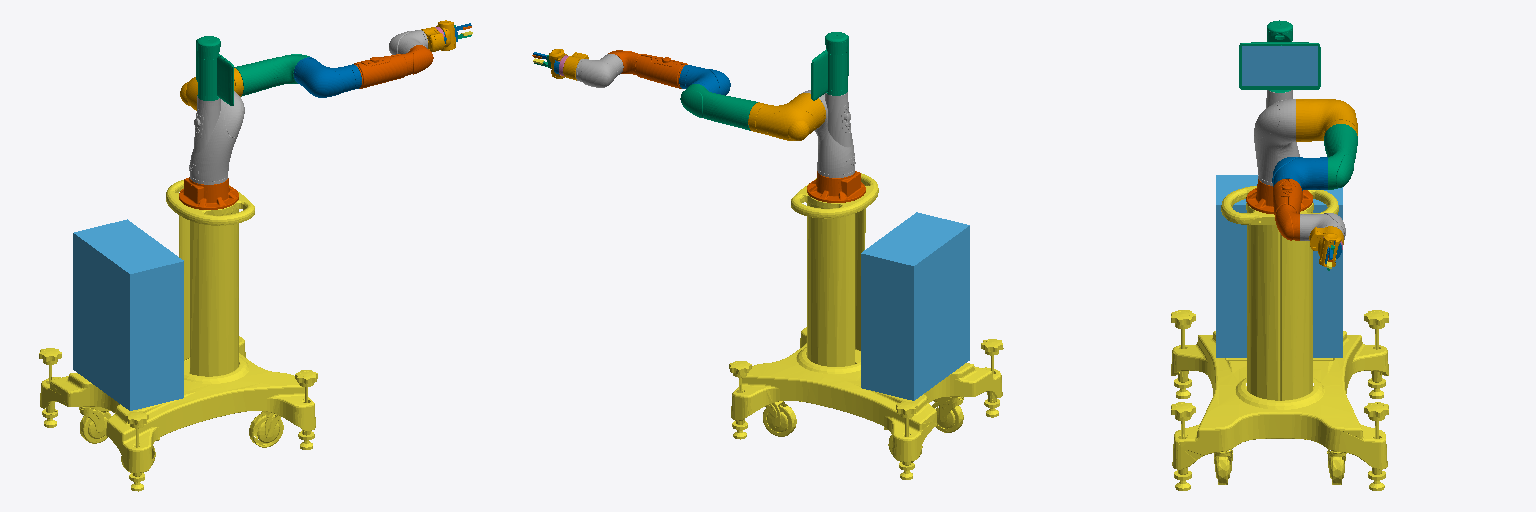
URDF robot description (sawyer_v2):
<?xml version="1.0" encoding="UTF-8"?>
<robot name="sawyer_v2">
  <joint name="controller_box_fixed" type="fixed">
    <origin xyz="0. 0. 0." rpy="0. 0. 0."/>
    <parent link="base"/>
    <child link="controller_box"/>
  </joint>
  <joint name="display_joint" type="fixed">
    <origin xyz="0.03 0. 0.1050001" rpy="1.5707963 0. 1.5707964"/>
    <parent link="head"/>
    <child link="screen"/>
  </joint>
  <joint name="head_head_camera" type="fixed">
    <origin xyz="0.0228027 0. 0.2165721" rpy="-1.5707963 -0.5585038 3.1415925"/>
    <parent link="head"/>
    <child link="sawyer_head_camera"/>
  </joint>
  <joint name="head_pan" type="revolute">
    <origin xyz="0. 0. 0.2965" rpy="0. 0. 0."/>
    <parent link="right_l0"/>
    <child link="head"/>
    <axis xyz="0. 0. 1."/>
    <limit lower="-5.0951992" upper="0.9064" effort="8." velocity="1.8"/>
  </joint>
  <joint name="pedestal_feet_fixed" type="fixed">
    <origin xyz="0. 0. 0." rpy="0. 0. 0."/>
    <parent link="base"/>
    <child link="pedestal_feet"/>
  </joint>
  <joint name="pedestal_fixed" type="fixed">
    <origin xyz="0. 0. 0." rpy="0. 0. 0."/>
    <parent link="base"/>
    <child link="pedestal"/>
  </joint>
  <joint name="right_arm_mount" type="fixed">
    <origin xyz="0. 0. 0." rpy="0. 0. 0."/>
    <parent link="base"/>
    <child link="right_arm_base_link"/>
  </joint>
  <joint name="right_connector_plate_base_joint" type="fixed">
    <origin xyz="0. 0. 0.0018" rpy="0. 0. 0."/>
    <parent link="right_gripper_base"/>
    <child link="right_connector_plate_base"/>
  </joint>
  <joint name="right_connector_plate_mount_joint" type="fixed">
    <origin xyz="0. -0. 0.0176001" rpy="0. 0. 0."/>
    <parent link="right_connector_plate_base"/>
    <child link="right_connector_plate_mount"/>
  </joint>
  <joint name="right_electric_gripper_base_joint" type="fixed">
    <origin xyz="0. -0. -0.0000001" rpy="0. 0. 0."/>
    <parent link="right_connector_plate_mount"/>
    <child link="right_electric_gripper_base"/>
  </joint>
  <joint name="right_gripper_base_joint" type="fixed">
    <origin xyz="0. 0. -0.005" rpy="-0.0000001 0. -0. "/>
    <parent link="sawyer_right_hand"/>
    <child link="right_gripper_base"/>
  </joint>
  <joint name="right_gripper_l_finger_joint" type="prismatic">
    <origin xyz="0.003 -0.0015 0.04552" rpy="-0. 0.0000001 -0.0000002"/>
    <parent link="right_electric_gripper_base"/>
    <child link="right_gripper_l_finger"/>
    <axis xyz="0. 1. 0."/>
    <limit lower="0." upper="0.020833" effort="20." velocity="5."/>
  </joint>
  <joint name="right_gripper_l_finger_tip_joint" type="fixed">
    <origin xyz="-0. 0.01725 0.075 " rpy="0.0000001 0. -0.0000001"/>
    <parent link="right_gripper_l_finger"/>
    <child link="right_gripper_l_finger_tip"/>
  </joint>
  <joint name="right_gripper_r_finger_joint" type="prismatic">
    <origin xyz="0.003 0.0015 0.04552" rpy="-0. 0.0000001 -0.0000002"/>
    <parent link="right_electric_gripper_base"/>
    <child link="right_gripper_r_finger"/>
    <axis xyz="0. 1. 0."/>
    <limit lower="-0.020833" upper="0." effort="340282346638528859811704183484516925440." velocity="5."/>
  </joint>
  <joint name="right_gripper_r_finger_tip_joint" type="fixed">
    <origin xyz="-0. -0.01725 0.0750001" rpy="0. -0.0000001 0. "/>
    <parent link="right_gripper_r_finger"/>
    <child link="right_gripper_r_finger_tip"/>
  </joint>
  <joint name="right_gripper_tip_joint" type="fixed">
    <origin xyz="0. 0. 0.14062" rpy="0. 0. 0."/>
    <parent link="right_gripper_base"/>
    <child link="right_gripper_tip"/>
  </joint>
  <joint name="right_j0" type="revolute">
    <origin xyz="0. 0. 0.08" rpy="0. 0. 0."/>
    <parent link="right_arm_base_link"/>
    <child link="right_l0"/>
    <axis xyz="0. 0. 1."/>
    <limit lower="-3.0502998" upper="3.0502998" effort="80." velocity="1.74"/>
  </joint>
  <joint name="right_j1" type="revolute">
    <origin xyz="0.081 0.05 0.237" rpy="-1.5707964 1.5707963 0. "/>
    <parent link="right_l0"/>
    <child link="right_l1"/>
    <axis xyz="0. 0. 1."/>
    <limit lower="-3.8094999" upper="2.2736" effort="80." velocity="1.3279999"/>
  </joint>
  <joint name="right_j1_2" type="fixed">
    <origin xyz="-0. 0. 0." rpy="0. 0. -0.0000167"/>
    <parent link="right_l1"/>
    <child link="right_l1_2"/>
  </joint>
  <joint name="right_j2" type="revolute">
    <origin xyz="-0.0000024 -0.14 0.1425 " rpy="1.5707964 0. -0.0000167"/>
    <parent link="right_l1"/>
    <child link="right_l2"/>
    <axis xyz="0. 0. 1."/>
    <limit lower="-3.0425998" upper="3.0425998" effort="40." velocity="1.957"/>
  </joint>
  <joint name="right_j2_2" type="fixed">
    <origin xyz="-0. 0.0000001 0.0000001" rpy="0. 0.0000001 -0.0000032"/>
    <parent link="right_l2"/>
    <child link="right_l2_2"/>
  </joint>
  <joint name="right_j3" type="revolute">
    <origin xyz="-0.0000001 -0.042 0.2600001" rpy="-1.5707963 0.0000001 -0.0000032"/>
    <parent link="right_l2"/>
    <child link="right_l3"/>
    <axis xyz="0. 0. 1."/>
    <limit lower="-3.0438999" upper="3.0438999" effort="40." velocity="1.957"/>
  </joint>
  <joint name="right_j4" type="revolute">
    <origin xyz="-0.0000002 -0.1250001 -0.1265 " rpy="1.5707961 0.0000002 -0.0000014"/>
    <parent link="right_l3"/>
    <child link="right_l4"/>
    <axis xyz="0. 0. 1."/>
    <limit lower="-2.9760996" upper="2.9760996" effort="9." velocity="3.4849998"/>
  </joint>
  <joint name="right_j4_2" type="fixed">
    <origin xyz="-0. -0.0000001 0. " rpy="0.0000001 -0.0000001 -0.0000002"/>
    <parent link="right_l4"/>
    <child link="right_l4_2"/>
  </joint>
  <joint name="right_j5" type="revolute">
    <origin xyz="-0. 0.0309999 0.2750001" rpy="-1.5707963 -0.0000001 -0.0000002"/>
    <parent link="right_l4"/>
    <child link="right_l5"/>
    <axis xyz="0. 0. 1."/>
    <limit lower="-2.9760996" upper="2.9760996" effort="9." velocity="3.4849998"/>
  </joint>
  <joint name="right_j6" type="revolute">
    <origin xyz="-0. -0.11 0.1053" rpy="-1.5707963 -0.17453 -3.1415854"/>
    <parent link="right_l5"/>
    <child link="right_l6"/>
    <axis xyz="0. 0. 1."/>
    <limit lower="-4.7123991" upper="4.7123991" effort="9." velocity="4.5450003"/>
  </joint>
  <joint name="right_l0_right_torso_itb" type="fixed">
    <origin xyz="-0.055 -0. 0.22 " rpy="0. -1.5707963 0. "/>
    <parent link="right_l0"/>
    <child link="sawyer_right_torso_itb"/>
  </joint>
  <joint name="right_l4_right_arm_itb" type="fixed">
    <origin xyz="-0.055 -0.0000001 0.075 " rpy="-0.0000002 -1.5707963 0. "/>
    <parent link="right_l4"/>
    <child link="sawyer_right_arm_itb"/>
  </joint>
  <joint name="right_l5_right_hand_camera" type="fixed">
    <origin xyz="0.039552 -0.033 0.0695 " rpy="-3.1415925 0. -3.1415925"/>
    <parent link="right_l5"/>
    <child link="sawyer_right_hand_camera"/>
  </joint>
  <joint name="right_l5_right_wrist" type="fixed">
    <origin xyz="-0. -0. 0.10541" rpy="1.5707963 0. 1.5707964"/>
    <parent link="right_l5"/>
    <child link="sawyer_right_wrist"/>
  </joint>
  <joint name="right_l6_right_hand" type="fixed">
    <origin xyz="0. -0. 0.0245001" rpy="0.0000001 -0.0000001 1.570796 "/>
    <parent link="right_l6"/>
    <child link="sawyer_right_hand"/>
  </joint>
  <joint name="sawyer_root_joint" type="fixed">
    <origin xyz="0. 0. 0." rpy="0. 0. 0."/>
    <parent link="sawyer"/>
    <child link="sawyer_sawyer"/>
  </joint>
  <joint name="sawyer_sawyer_root_joint" type="fixed">
    <origin xyz="0. 0. 0." rpy="0. 0. 0."/>
    <parent link="sawyer_sawyer"/>
    <child link="base"/>
  </joint>
  <joint name="torso_t0" type="fixed">
    <origin xyz="0. 0. 0." rpy="0. 0. 0."/>
    <parent link="base"/>
    <child link="torso"/>
  </joint>
  <link name="base">
    <inertial>
      <origin xyz="-inf -inf -inf" rpy="0. 0. 0."/>
      <mass value="0.000001"/>
      <inertia ixx="0.00001" ixy="0." ixz="0." iyy="0.00001" iyz="0." izz="0.00001"/>
    </inertial>
  </link>
  <link name="controller_box">
    <inertial>
      <origin xyz="0. 0. 0." rpy="0. 0. 0."/>
      <mass value="0.000001"/>
      <inertia ixx="0.001" ixy="0." ixz="0." iyy="0.001" iyz="0." izz="0.001"/>
    </inertial>
    <visual>
      <origin xyz="-0.325 0. -0.38 " rpy="0. 0. 0."/>
      <geometry>
        <box size="0.22 0.4 0.53"/>
      </geometry>
    </visual>
    <collision>
      <origin xyz="-0.325 0. -0.38 " rpy="0. 0. 0."/>
      <geometry>
        <box size="0.22 0.4 0.53"/>
      </geometry>
    </collision>
  </link>
  <link name="head">
    <inertial>
      <origin xyz="0. 0. 0." rpy="0. 0. 0."/>
      <mass value="1.5795"/>
      <inertia ixx="0.001" ixy="0." ixz="0." iyy="0.001" iyz="0." izz="0.001"/>
    </inertial>
    <visual>
      <origin xyz="0. 0. 0.0000001" rpy="0. -0. 0."/>
      <geometry>
        <mesh filename="meshes/head_visuals.obj" scale="1. 1. 1."/>
      </geometry>
    </visual>
  </link>
  <link name="pedestal">
    <inertial>
      <origin xyz="0. 0. 0." rpy="0. 0. 0."/>
      <mass value="60.8639793"/>
      <inertia ixx="0.001" ixy="0." ixz="0." iyy="0.001" iyz="0." izz="0.001"/>
    </inertial>
    <visual>
      <origin xyz="0.26 0.345 -0.91488" rpy="1.5707964 0. -1.5707964"/>
      <geometry>
        <mesh filename="meshes/pedestal_visuals.obj" scale="1. 1. 1."/>
      </geometry>
    </visual>
    <collision>
      <origin xyz="-0.02 0. -0.29" rpy="0. 0. 0."/>
      <geometry>
        <cylinder radius="0.18" length="0.62"/>
      </geometry>
    </collision>
  </link>
  <link name="pedestal_feet">
    <inertial>
      <origin xyz="0. 0. 0." rpy="0. 0. 0."/>
      <mass value="0.000001"/>
      <inertia ixx="0.001" ixy="0." ixz="0." iyy="0.001" iyz="0." izz="0.001"/>
    </inertial>
    <collision>
      <origin xyz="-0.1225 0. -0.758 " rpy="0. 0. 0."/>
      <geometry>
        <box size="0.77 0.7 0.31"/>
      </geometry>
    </collision>
  </link>
  <link name="right_arm_base_link">
    <inertial>
      <origin xyz="0. 0. 0." rpy="0. 0. 0."/>
      <mass value="2.0687001"/>
      <inertia ixx="0.001" ixy="0." ixz="0." iyy="0.001" iyz="0." izz="0.001"/>
    </inertial>
    <visual>
      <origin xyz="0. 0. 0." rpy="0. 0. 0."/>
      <geometry>
        <mesh filename="meshes/right_arm_base_link_visuals.obj" scale="1. 1. 1."/>
      </geometry>
    </visual>
    <collision>
      <origin xyz="0. 0. 0.12" rpy="0. 0. 0."/>
      <geometry>
        <cylinder radius="0.08" length="0.24"/>
      </geometry>
    </collision>
  </link>
  <link name="right_connector_plate_base">
    <inertial>
      <origin xyz="0. 0. 0." rpy="0. 0. 0."/>
      <mass value="0.000001"/>
      <inertia ixx="0.001" ixy="0." ixz="0." iyy="0.001" iyz="0." izz="0.001"/>
    </inertial>
    <visual>
      <origin xyz="-0. 0. 0.0000002" rpy="0. 0. 0."/>
      <geometry>
        <mesh filename="meshes/right_connector_plate_base_visuals.obj" scale="1. 1. 1."/>
      </geometry>
    </visual>
    <collision>
      <origin xyz="0. -0. 0.0135001" rpy="0. 0. 0."/>
      <geometry>
        <cylinder radius="0.04" length="0.0302"/>
      </geometry>
    </collision>
  </link>
  <link name="right_connector_plate_mount">
    <inertial>
      <origin xyz="0. 0. 0." rpy="0. 0. 0."/>
      <mass value="0.000001"/>
      <inertia ixx="0.00001" ixy="0." ixz="0." iyy="0.00001" iyz="0." izz="0.00001"/>
    </inertial>
  </link>
  <link name="right_electric_gripper_base">
    <inertial>
      <origin xyz="0. 0. 0." rpy="0. 0. 0."/>
      <mass value="0.000002"/>
      <inertia ixx="0.001" ixy="0." ixz="0." iyy="0.001" iyz="0." izz="0.001"/>
    </inertial>
    <visual>
      <origin xyz="-0. 0. 0." rpy="-0. 0.0000001 -0.0000002"/>
      <geometry>
        <mesh filename="meshes/right_electric_gripper_base_visuals.obj" scale="1. 1. 1."/>
      </geometry>
    </visual>
    <collision>
      <origin xyz="0.004 -0. 0.025" rpy="1.5707964 -0.0000002 3.1415925"/>
      <geometry>
        <cylinder radius="0.029" length="0.1"/>
      </geometry>
    </collision>
  </link>
  <link name="right_gripper_base">
    <inertial>
      <origin xyz="0. 0. 0." rpy="0. 0. 0."/>
      <mass value="0.47"/>
      <inertia ixx="0.00001" ixy="0." ixz="0." iyy="0.00001" iyz="0." izz="0.00001"/>
    </inertial>
  </link>
  <link name="right_gripper_l_finger">
    <inertial>
      <origin xyz="0. 0. 0." rpy="0. 0. 0."/>
      <mass value="0.001"/>
      <inertia ixx="0.001" ixy="0." ixz="0." iyy="0.001" iyz="0." izz="0.001"/>
    </inertial>
    <visual>
      <origin xyz="0. -0. -0." rpy="-0.0000001 -0. 3.1415925"/>
      <geometry>
        <mesh filename="meshes/right_gripper_l_finger_visuals_mesh_0.obj" scale="1. 1. 1."/>
      </geometry>
    </visual>
    <visual>
      <origin xyz="-0. 0.01725 0.04 " rpy="-0.0000001 -0. 3.1415925"/>
      <geometry>
        <box size="0.01 0.0135 0.075 "/>
      </geometry>
    </visual>
    <visual>
      <origin xyz="-0.005 -0.003 0.0083" rpy="-0.0000001 -0. 3.1415925"/>
      <geometry>
        <box size="0.01 0.05 0.017"/>
      </geometry>
    </visual>
    <collision>
      <origin xyz="-0. 0.01725 0.04 " rpy="-0.0000001 -0. 3.1415925"/>
      <geometry>
        <box size="0.01 0.0135 0.075 "/>
      </geometry>
    </collision>
  </link>
  <link name="right_gripper_l_finger_tip">
    <inertial>
      <origin xyz="0. 0. 0." rpy="0. 0. 0."/>
      <mass value="0.001"/>
      <inertia ixx="0.001" ixy="0." ixz="0." iyy="0.001" iyz="0." izz="0.001"/>
    </inertial>
    <visual>
      <origin xyz="-0. -0. -0." rpy="-0.0000001 0.0000003 -3.1415923"/>
      <geometry>
        <mesh filename="meshes/right_gripper_l_finger_tip_visuals_mesh_0.obj" scale="1. 1. 1."/>
      </geometry>
    </visual>
    <visual>
      <origin xyz="-0. -0.0045 -0.015 " rpy="-0.0000001 0.0000003 -3.1415923"/>
      <geometry>
        <box size="0.016 0.007 0.037"/>
      </geometry>
    </visual>
    <collision>
      <origin xyz="-0. -0.0045 -0.015 " rpy="-0.0000001 0.0000003 -3.1415923"/>
      <geometry>
        <box size="0.016 0.007 0.037"/>
      </geometry>
    </collision>
  </link>
  <link name="right_gripper_r_finger">
    <inertial>
      <origin xyz="0. 0. 0." rpy="0. 0. 0."/>
      <mass value="0.001"/>
      <inertia ixx="0.001" ixy="0." ixz="0." iyy="0.001" iyz="0." izz="0.001"/>
    </inertial>
    <visual>
      <origin xyz="-0. -0. 0.0000001" rpy="0. -0.0000001 0. "/>
      <geometry>
        <mesh filename="meshes/right_gripper_r_finger_visuals_mesh_0.obj" scale="1. 1. 1."/>
      </geometry>
    </visual>
    <visual>
      <origin xyz="-0. -0.01725 0.0400001" rpy="0. -0.0000001 0. "/>
      <geometry>
        <box size="0.01 0.0135 0.075 "/>
      </geometry>
    </visual>
    <visual>
      <origin xyz="0.005 0.003 0.0083001" rpy="0. -0.0000001 0. "/>
      <geometry>
        <box size="0.01 0.05 0.017"/>
      </geometry>
    </visual>
    <collision>
      <origin xyz="-0. -0.01725 0.0400001" rpy="0. -0.0000001 0. "/>
      <geometry>
        <box size="0.01 0.0135 0.075 "/>
      </geometry>
    </collision>
  </link>
  <link name="right_gripper_r_finger_tip">
    <inertial>
      <origin xyz="0. 0. 0." rpy="0. 0. 0."/>
      <mass value="0.001"/>
      <inertia ixx="0.001" ixy="0." ixz="0." iyy="0.001" iyz="0." izz="0.001"/>
    </inertial>
    <visual>
      <origin xyz="0. -0. -0." rpy="0.0000003 0. 0.0000001"/>
      <geometry>
        <mesh filename="meshes/right_gripper_r_finger_tip_visuals_mesh_0.obj" scale="1. 1. 1."/>
      </geometry>
    </visual>
    <visual>
      <origin xyz="0. 0.0045 -0.015 " rpy="0.0000003 0. 0.0000001"/>
      <geometry>
        <box size="0.016 0.007 0.037"/>
      </geometry>
    </visual>
    <collision>
      <origin xyz="0. 0.0045 -0.015 " rpy="0.0000003 0. 0.0000001"/>
      <geometry>
        <box size="0.016 0.007 0.037"/>
      </geometry>
    </collision>
  </link>
  <link name="right_gripper_tip">
    <inertial>
      <origin xyz="0. 0. 0." rpy="0. 0. 0."/>
      <mass value="0.000002"/>
      <inertia ixx="0.00001" ixy="0." ixz="0." iyy="0.00001" iyz="0." izz="0.00001"/>
    </inertial>
  </link>
  <link name="right_l0">
    <inertial>
      <origin xyz="0. 0. 0." rpy="0. 0. 0."/>
      <mass value="5.3213"/>
      <inertia ixx="0.001" ixy="0." ixz="0." iyy="0.001" iyz="0." izz="0.001"/>
    </inertial>
    <visual>
      <origin xyz="0. 0. 0." rpy="0. 0. 0."/>
      <geometry>
        <mesh filename="meshes/right_l0_visuals.obj" scale="1. 1. 1."/>
      </geometry>
    </visual>
    <collision>
      <origin xyz="0.08 0. 0.23" rpy="0. 0. 0."/>
      <geometry>
        <sphere radius="0.07"/>
      </geometry>
    </collision>
  </link>
  <link name="right_l1">
    <inertial>
      <origin xyz="0. 0. 0." rpy="0. 0. 0."/>
      <mass value="4.5050001"/>
      <inertia ixx="0.001" ixy="0." ixz="0." iyy="0.001" iyz="0." izz="0.001"/>
    </inertial>
    <visual>
      <origin xyz="-0. 0. 0." rpy="0. 0. -0.0000167"/>
      <geometry>
        <mesh filename="meshes/right_l1_visuals.obj" scale="1. 1. 1."/>
      </geometry>
    </visual>
    <visual>
      <origin xyz="0.0058472 0.0333626 0.146406 " rpy="0. 0. -0.0000167"/>
      <geometry>
        <sphere radius="0.0444539"/>
      </geometry>
    </visual>
    <collision>
      <origin xyz="-0. -0. 0.1225" rpy="0. 0. -0.0000167"/>
      <geometry>
        <sphere radius="0.07"/>
      </geometry>
    </collision>
  </link>
  <link name="right_l1_2">
    <collision>
      <origin xyz="0. 0. 0.035" rpy="0. 0. 0."/>
      <geometry>
        <cylinder radius="0.07" length="0.14"/>
      </geometry>
    </collision>
  </link>
  <link name="right_l2">
    <inertial>
      <origin xyz="0. 0. 0." rpy="0. 0. 0."/>
      <mass value="1.745"/>
      <inertia ixx="0.001" ixy="0." ixz="0." iyy="0.001" iyz="0." izz="0.001"/>
    </inertial>
    <visual>
      <origin xyz="-0. 0.0000001 0.0000001" rpy="0. 0.0000001 -0.0000032"/>
      <geometry>
        <mesh filename="meshes/right_l2_visuals.obj" scale="1. 1. 1."/>
      </geometry>
    </visual>
    <collision>
      <origin xyz="-0. 0.0000001 0.0800001" rpy="0. 0.0000001 -0.0000032"/>
      <geometry>
        <cylinder radius="0.06" length="0.34"/>
      </geometry>
    </collision>
  </link>
  <link name="right_l2_2">
    <collision>
      <origin xyz="0. 0. 0.26" rpy="0. 0. 0."/>
      <geometry>
        <sphere radius="0.06"/>
      </geometry>
    </collision>
  </link>
  <link name="right_l3">
    <inertial>
      <origin xyz="0. 0. 0." rpy="0. 0. 0."/>
      <mass value="2.5097001"/>
      <inertia ixx="0.001" ixy="0." ixz="0." iyy="0.001" iyz="0." izz="0.001"/>
    </inertial>
    <visual>
      <origin xyz="-0. -0.0000001 0. " rpy="-0.0000001 0.0000002 -0.0000014"/>
      <geometry>
        <mesh filename="meshes/right_l3_visuals.obj" scale="1. 1. 1."/>
      </geometry>
    </visual>
    <collision>
      <origin xyz="-0.0000001 -0.0100001 -0.12 " rpy="-0.0000001 0.0000002 -0.0000014"/>
      <geometry>
        <sphere radius="0.06"/>
      </geometry>
    </collision>
  </link>
  <link name="right_l4">
    <inertial>
      <origin xyz="0. 0. 0." rpy="0. 0. 0."/>
      <mass value="1.1136"/>
      <inertia ixx="0.001" ixy="0." ixz="0." iyy="0.001" iyz="0." izz="0.001"/>
    </inertial>
    <visual>
      <origin xyz="-0. -0.0000001 0. " rpy="0.0000001 -0.0000001 -0.0000002"/>
      <geometry>
        <mesh filename="meshes/right_l4_visuals.obj" scale="1. 1. 1."/>
      </geometry>
    </visual>
    <collision>
      <origin xyz="-0. -0.0000001 0.11 " rpy="0.0000001 -0.0000001 -0.0000002"/>
      <geometry>
        <cylinder radius="0.045" length="0.3"/>
      </geometry>
    </collision>
  </link>
  <link name="right_l4_2">
    <collision>
      <origin xyz="0. 0.01 0.26" rpy="0. 0. 0."/>
      <geometry>
        <sphere radius="0.06"/>
      </geometry>
    </collision>
  </link>
  <link name="right_l5">
    <inertial>
      <origin xyz="0. 0. 0." rpy="0. 0. 0."/>
      <mass value="1.5625"/>
      <inertia ixx="0.001" ixy="0." ixz="0." iyy="0.001" iyz="0." izz="0.001"/>
    </inertial>
    <visual>
      <origin xyz="0. -0. 0." rpy="-0. -0. -0."/>
      <geometry>
        <mesh filename="meshes/right_l5_visuals.obj" scale="1. 1. 1."/>
      </geometry>
    </visual>
    <collision>
      <origin xyz="-0. -0. 0.1" rpy="-0. -0. -0."/>
      <geometry>
        <sphere radius="0.06"/>
      </geometry>
    </collision>
  </link>
  <link name="right_l6">
    <inertial>
      <origin xyz="0. 0. 0." rpy="0. 0. 0."/>
      <mass value="0.3292"/>
      <inertia ixx="0.001" ixy="0." ixz="0." iyy="0.001" iyz="0." izz="0.001"/>
    </inertial>
    <visual>
      <origin xyz="0.0000001 0. 0.0000004" rpy="0.0000001 0.0000001 0.0000001"/>
      <geometry>
        <mesh filename="meshes/right_l6_visuals.obj" scale="1. 1. 1."/>
      </geometry>
    </visual>
    <collision>
      <origin xyz="0. 0.015 -0.0099999" rpy="0.0000001 0.0000001 0.0000001"/>
      <geometry>
        <cylinder radius="0.055" length="0.05"/>
      </geometry>
    </collision>
  </link>
  <link name="sawyer"/>
  <link name="sawyer_head_camera">
    <inertial>
      <origin xyz="0. 0. 0." rpy="0. 0. 0."/>
      <mass value="0.000001"/>
      <inertia ixx="0.00001" ixy="0." ixz="0." iyy="0.00001" iyz="0." izz="0.00001"/>
    </inertial>
  </link>
  <link name="sawyer_right_arm_itb">
    <inertial>
      <origin xyz="0. 0. 0." rpy="0. 0. 0."/>
      <mass value="0.0001"/>
      <inertia ixx="0.00001" ixy="0." ixz="0." iyy="0.00001" iyz="0." izz="0.00001"/>
    </inertial>
  </link>
  <link name="sawyer_right_hand">
    <visual>
      <origin xyz="0. -0. 0.02" rpy="-0.0000001 0. -0. "/>
      <geometry>
        <cylinder radius="0.035" length="0.03"/>
      </geometry>
    </visual>
    <collision>
      <origin xyz="0. -0. 0.02" rpy="-0.0000001 0. -0. "/>
      <geometry>
        <cylinder radius="0.035" length="0.03"/>
      </geometry>
    </collision>
  </link>
  <link name="sawyer_right_hand_camera">
    <inertial>
      <origin xyz="0. 0. 0." rpy="0. 0. 0."/>
      <mass value="0.000001"/>
      <inertia ixx="0.00001" ixy="0." ixz="0." iyy="0.00001" iyz="0." izz="0.00001"/>
    </inertial>
  </link>
  <link name="sawyer_right_torso_itb">
    <inertial>
      <origin xyz="0. 0. 0." rpy="0. 0. 0."/>
      <mass value="0.0001"/>
      <inertia ixx="0.00001" ixy="0." ixz="0." iyy="0.00001" iyz="0." izz="0.00001"/>
    </inertial>
  </link>
  <link name="sawyer_right_wrist">
    <inertial>
      <origin xyz="0. 0. 0." rpy="0. 0. 0."/>
      <mass value="0.000001"/>
      <inertia ixx="0.00001" ixy="0." ixz="0." iyy="0.00001" iyz="0." izz="0.00001"/>
    </inertial>
  </link>
  <link name="sawyer_sawyer"/>
  <link name="screen">
    <inertial>
      <origin xyz="0. 0. 0." rpy="0. 0. 0."/>
      <mass value="0.0001"/>
      <inertia ixx="0.001" ixy="0." ixz="0." iyy="0.001" iyz="0." izz="0.001"/>
    </inertial>
    <visual>
      <origin xyz="-0. -0. 0." rpy="0. -0. 0."/>
      <geometry>
        <box size="0.24 0.14 0.002"/>
      </geometry>
    </visual>
    <visual>
      <origin xyz="-0. -0. 0." rpy="0. -0. 0."/>
      <geometry>
        <sphere radius="0.001"/>
      </geometry>
    </visual>
    <collision>
      <origin xyz="-0. -0. 0." rpy="0. -0. 0."/>
      <geometry>
        <sphere radius="0.001"/>
      </geometry>
    </collision>
  </link>
  <link name="torso">
    <inertial>
      <origin xyz="0. 0. 0." rpy="0. 0. 0."/>
      <mass value="0.0001"/>
      <inertia ixx="0.00001" ixy="0." ixz="0." iyy="0.00001" iyz="0." izz="0.00001"/>
    </inertial>
    <visual>
      <origin xyz="0. 0. 0." rpy="0. 0. 0."/>
      <geometry>
        <box size="0.001 0.001 0.001"/>
      </geometry>
    </visual>
  </link>
</robot>

--- What the picture shows (computed from the rendered views, not written in the file) ---
Views: 3 orthographic renders of the robot side by side, from view 1: azimuth 30°, elevation 25°; view 2: azimuth 150°, elevation 25°; view 3: azimuth 270°, elevation 25°.
Robot: sawyer_v2 — 35 links, 34 joints (8 revolute, 2 prismatic, 24 fixed); root link sawyer; default pose: every joint at zero.
Links seen in each view (by area): view 1: pedestal, controller_box, right_l0, head, right_l3, right_l4, right_l2, right_arm_base_link, right_l5, right_l1; view 2: pedestal, controller_box, right_l0, right_l1, head, right_l2, right_l4, right_arm_base_link, right_l5, right_l3; view 3: pedestal, controller_box, screen, right_l0, right_l1, right_l2, right_l4, right_l3, head, right_arm_base_link, right_l5.
Link boxes in pixels (x1,y1,x2,y2): pedestal: (39,180,317,491); controller_box: (73,219,183,410); right_l0: (189,91,244,184); head: (196,36,233,105); right_l3: (293,57,361,97); right_l4: (354,45,433,88); right_l2: (234,54,309,96); right_arm_base_link: (179,177,238,209); right_l5: (389,30,427,54); right_l1: (180,68,243,110); pedestal: (729,173,1003,479); controller_box: (861,212,969,400); right_l0: (801,90,855,177); right_l1: (748,93,825,140); head: (811,32,848,100); right_l2: (680,84,757,130); right_l4: (608,50,687,88); right_arm_base_link: (807,171,865,202); right_l5: (576,54,623,87); right_l3: (679,65,730,95); pedestal: (1171,186,1388,490); controller_box: (1216,175,1342,357); screen: (1242,46,1317,85); right_l0: (1254,90,1299,185); right_l1: (1296,99,1357,141); right_l2: (1324,124,1357,189); right_l4: (1273,179,1301,240); right_l3: (1272,157,1327,190); head: (1239,20,1320,92); right_arm_base_link: (1246,179,1312,213); right_l5: (1300,213,1345,240).
Size in the robot's own frame: 1.66 by 0.6859 by 1.53 metres.
Meshes: 16 distinct files referenced, 16 mesh visuals loaded (16 OBJ).